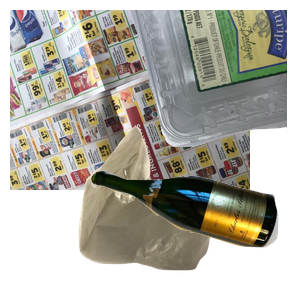glass: (88, 167, 300, 300)
paper: (10, 10, 250, 190)
plastic: (60, 10, 300, 149)
trash: (76, 124, 287, 300)
